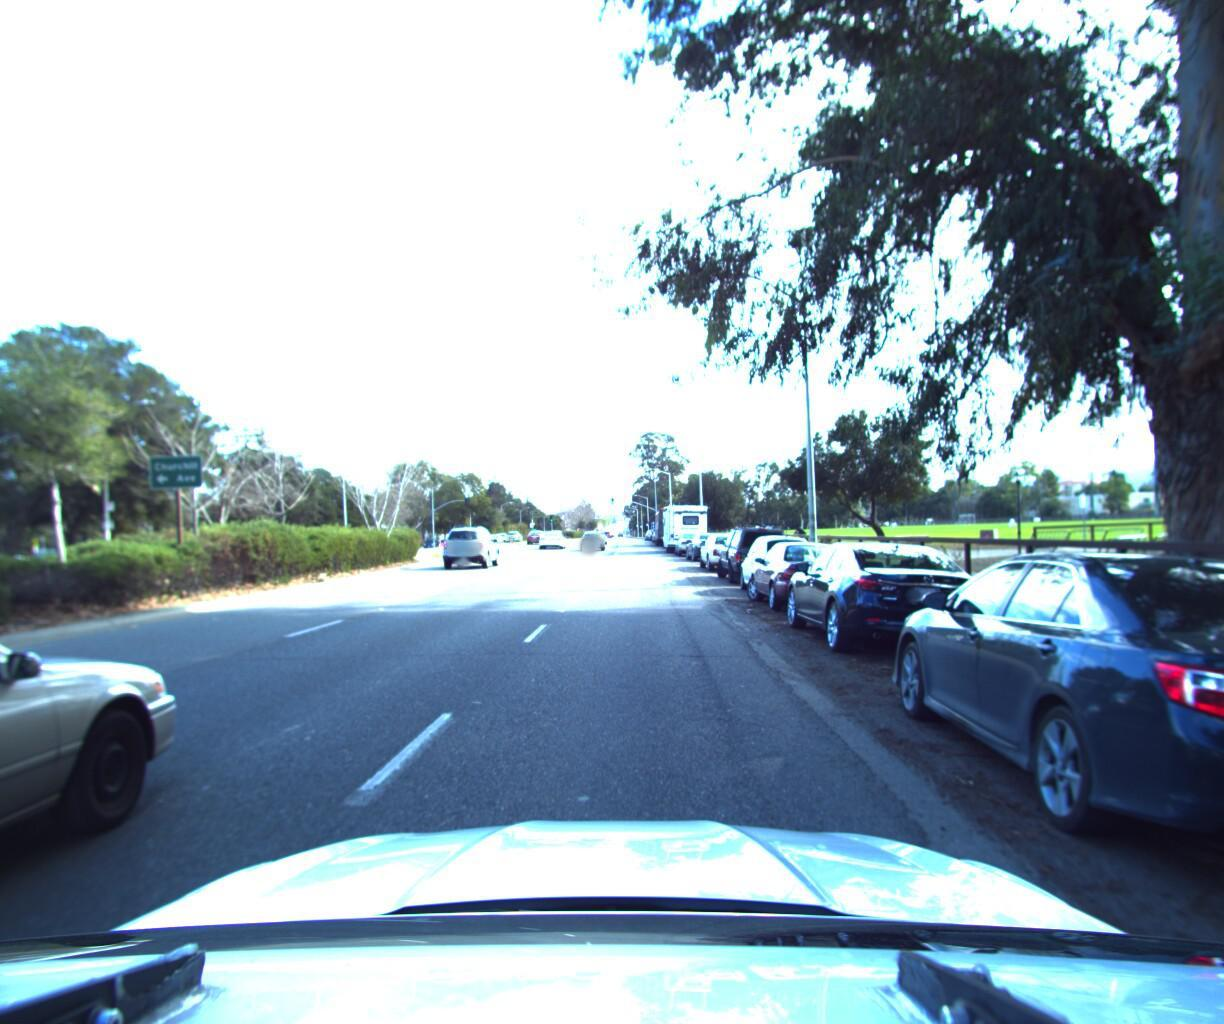bus: (654, 502, 691, 543)
car: (874, 527, 1224, 919), (0, 542, 231, 1024), (784, 529, 1009, 657), (749, 532, 878, 612), (741, 529, 828, 592), (719, 514, 797, 582), (697, 527, 771, 570), (443, 521, 506, 568), (684, 526, 743, 558), (677, 527, 713, 553), (579, 524, 606, 548), (540, 525, 568, 546), (531, 527, 552, 544)
other_vehicle: (664, 496, 714, 550)
